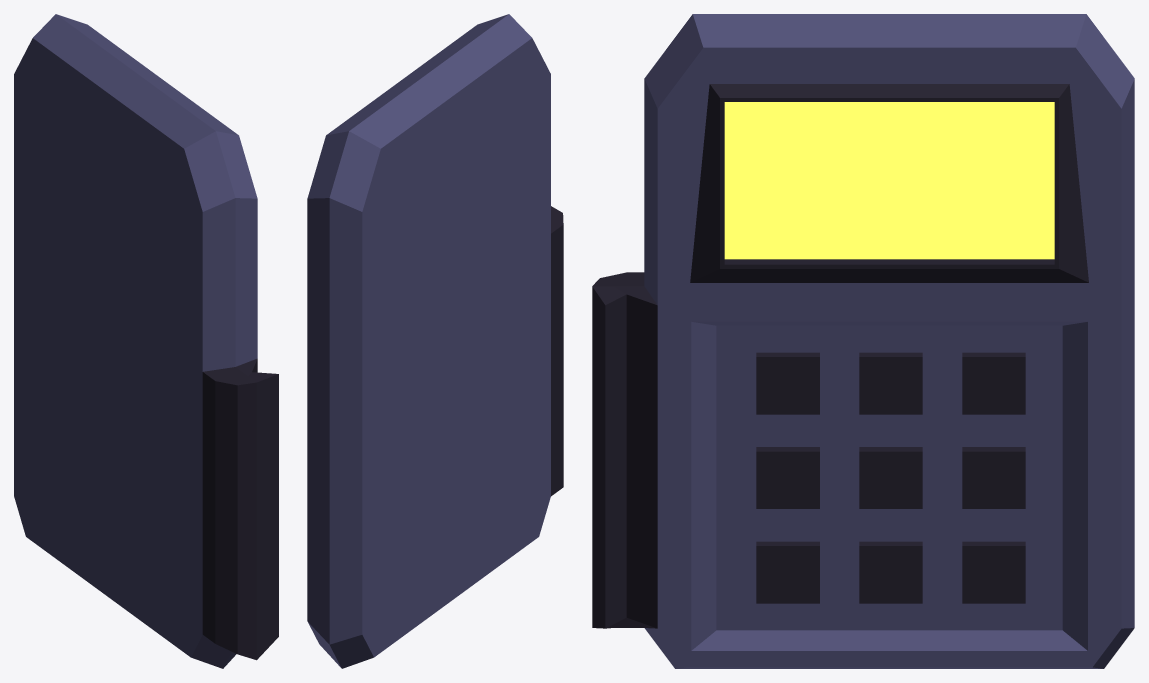
The model's file is KeyPad.fbx.
3 views of the same model, side by side, from view 1: azimuth 30°, elevation 25°; view 2: azimuth 150°, elevation 25°; view 3: azimuth 270°, elevation 25° (orthographic). The views are drawn at different scales.
Visible parts, largest first — view 1: Keypad; view 2: Keypad; view 3: Keypad.
Part boxes in pixels (<box>): Keypad: <box>14,14,278,668</box>; Keypad: <box>307,14,563,668</box>; Keypad: <box>592,14,1134,668</box>.
Bounding box in the file's own units: 0.0523 × 0.4009 × 0.301.
